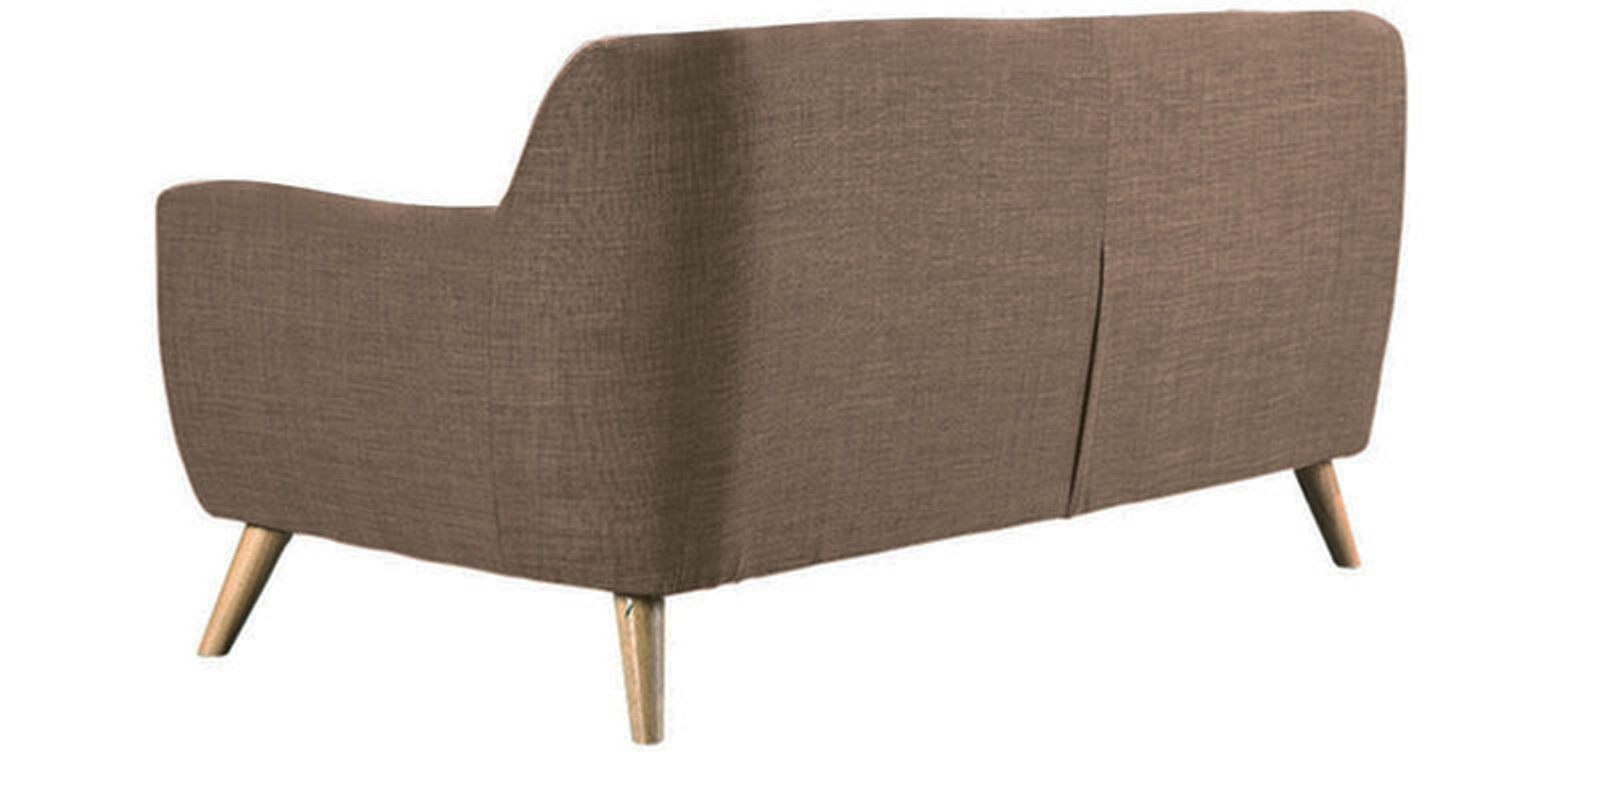Managua Three Seater Sofa in Coyote Colour by CasaCraft: (157, 6, 1407, 746)
